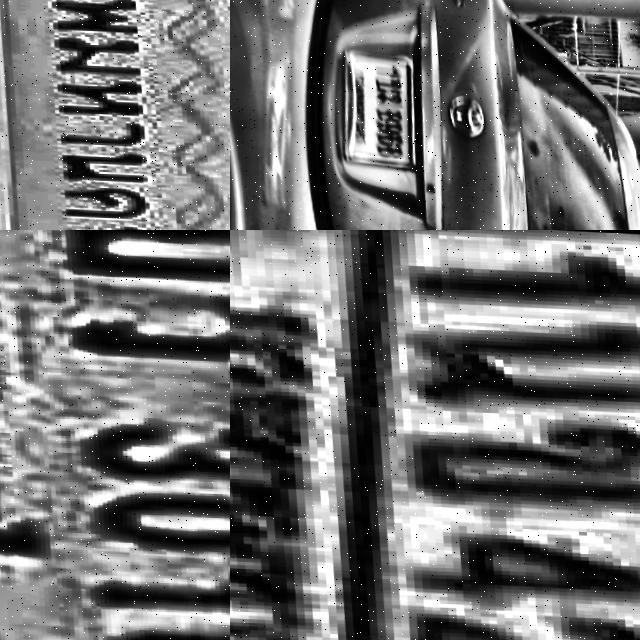license-plate: (230, 230, 640, 640), (0, 230, 230, 640), (0, 0, 230, 230), (317, 48, 419, 172)
